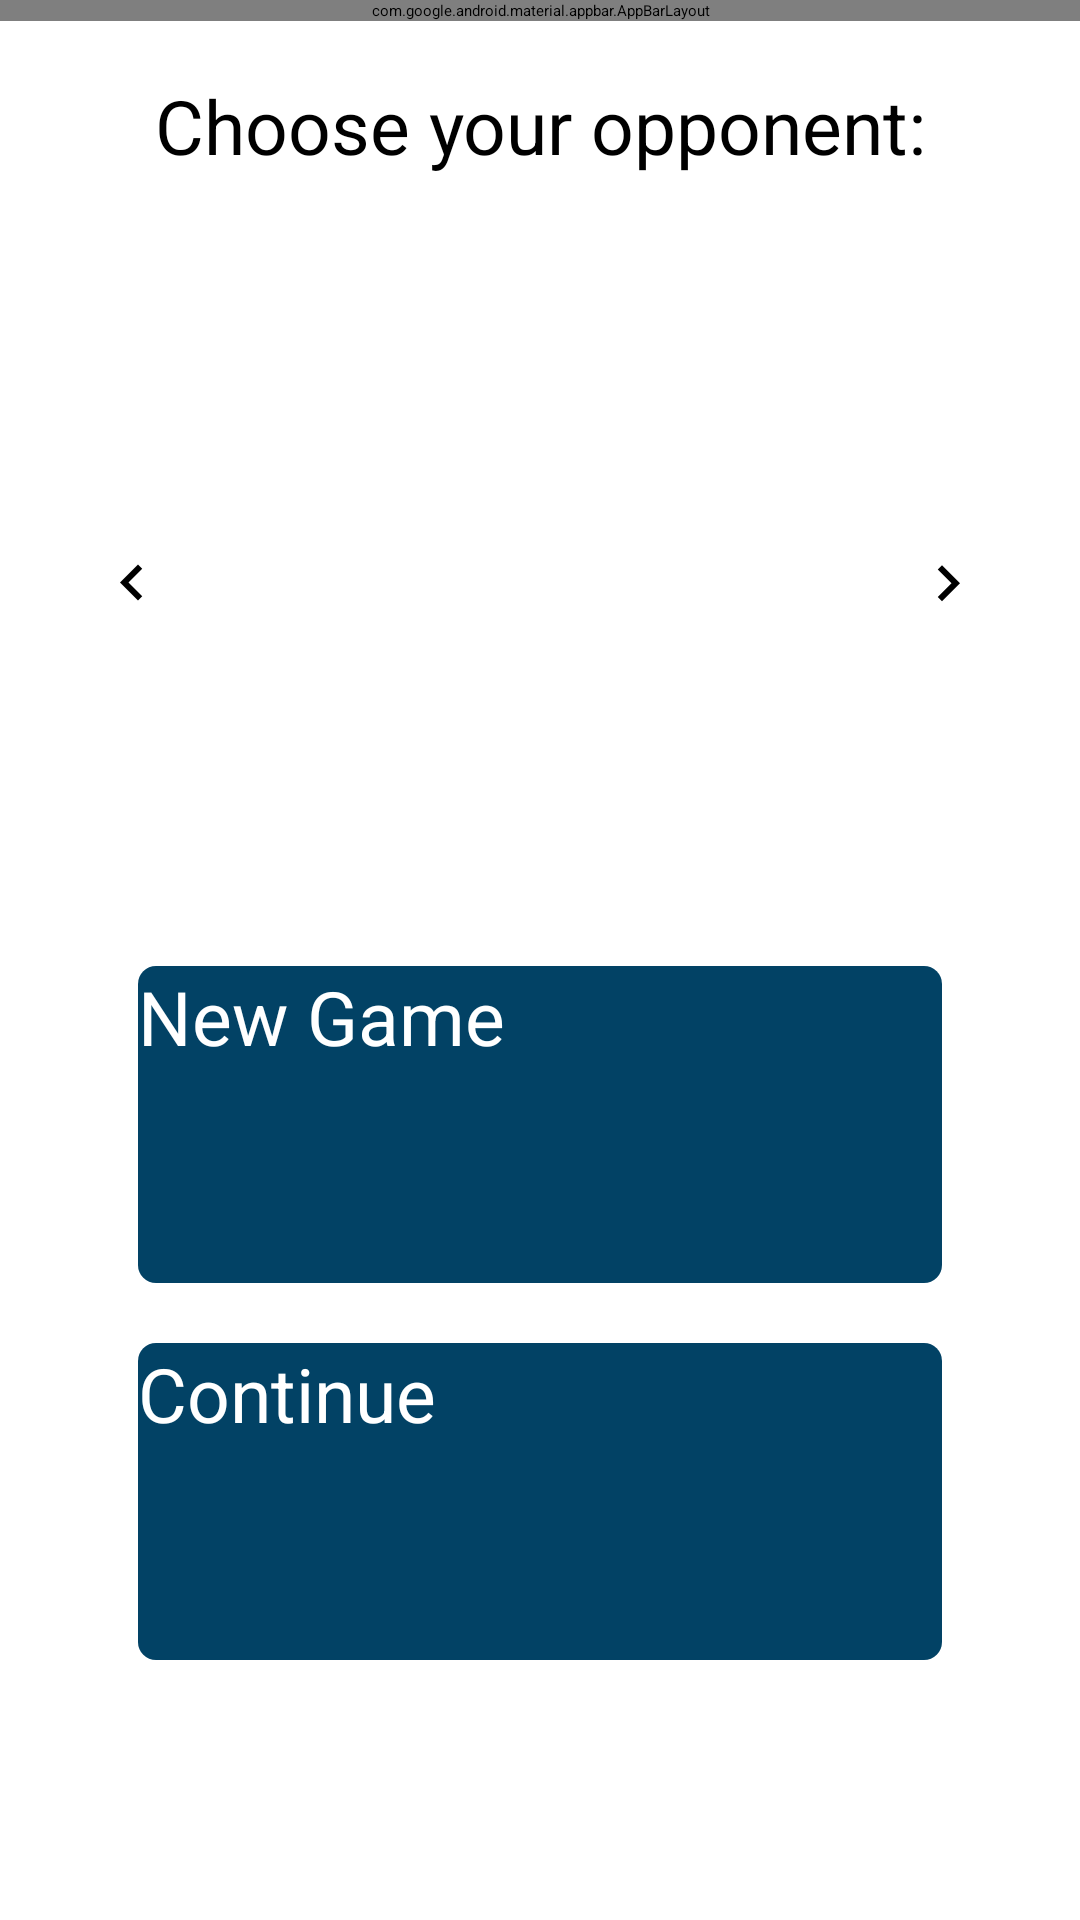

Where icons sit on this 1080 x 1920 app screen, as bbox=[x1, y1, x2, y2]:
keyboard arrow left: bbox=[120, 564, 142, 601]
keyboard arrow right: bbox=[938, 565, 960, 601]
